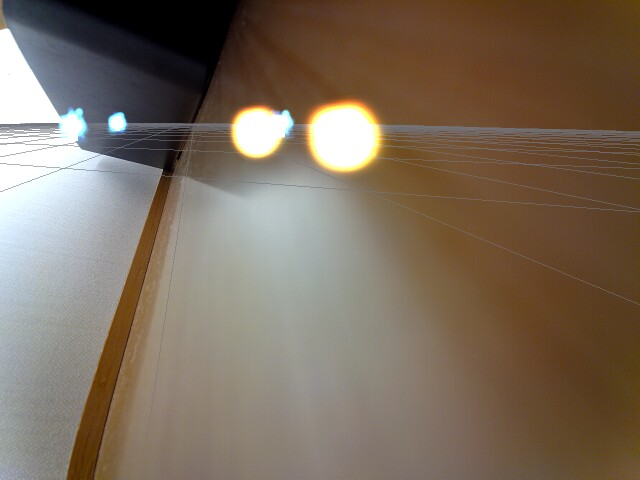firebig: (304, 100, 387, 174)
